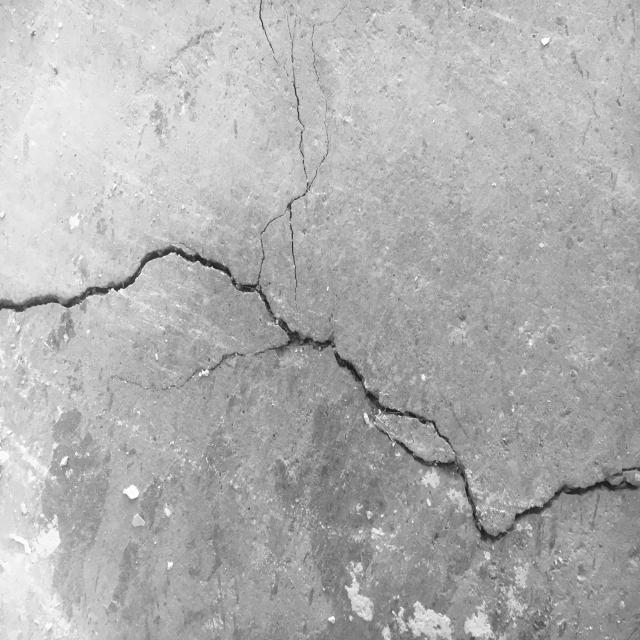SurfaceCrack: (1, 221, 640, 575)
